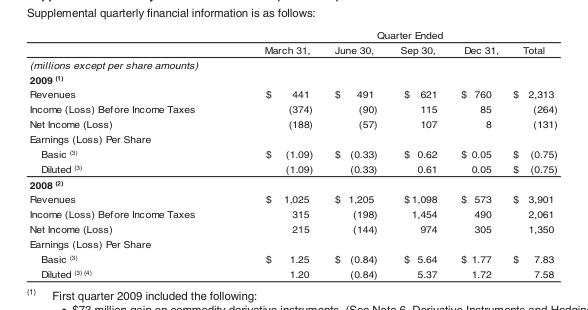table: (28, 28, 556, 279)
table column: (28, 28, 228, 279), (228, 28, 323, 279), (323, 28, 387, 279), (387, 28, 448, 279), (448, 28, 505, 279), (505, 28, 556, 279)
table column header: (28, 28, 556, 56)
table projected row header: (28, 56, 556, 71), (28, 71, 556, 86), (28, 131, 556, 146), (28, 176, 556, 191), (28, 236, 556, 251)
table row: (28, 41, 556, 56), (28, 56, 556, 71), (28, 71, 556, 86), (28, 86, 556, 101), (28, 101, 556, 116), (28, 116, 556, 131), (28, 131, 556, 146), (28, 146, 556, 161), (28, 161, 556, 176), (28, 176, 556, 191), (28, 191, 556, 206), (28, 206, 556, 221), (28, 221, 556, 236), (28, 236, 556, 251), (28, 251, 556, 266), (28, 28, 556, 41), (28, 266, 556, 279)
table spanning cell: (228, 28, 556, 41)
